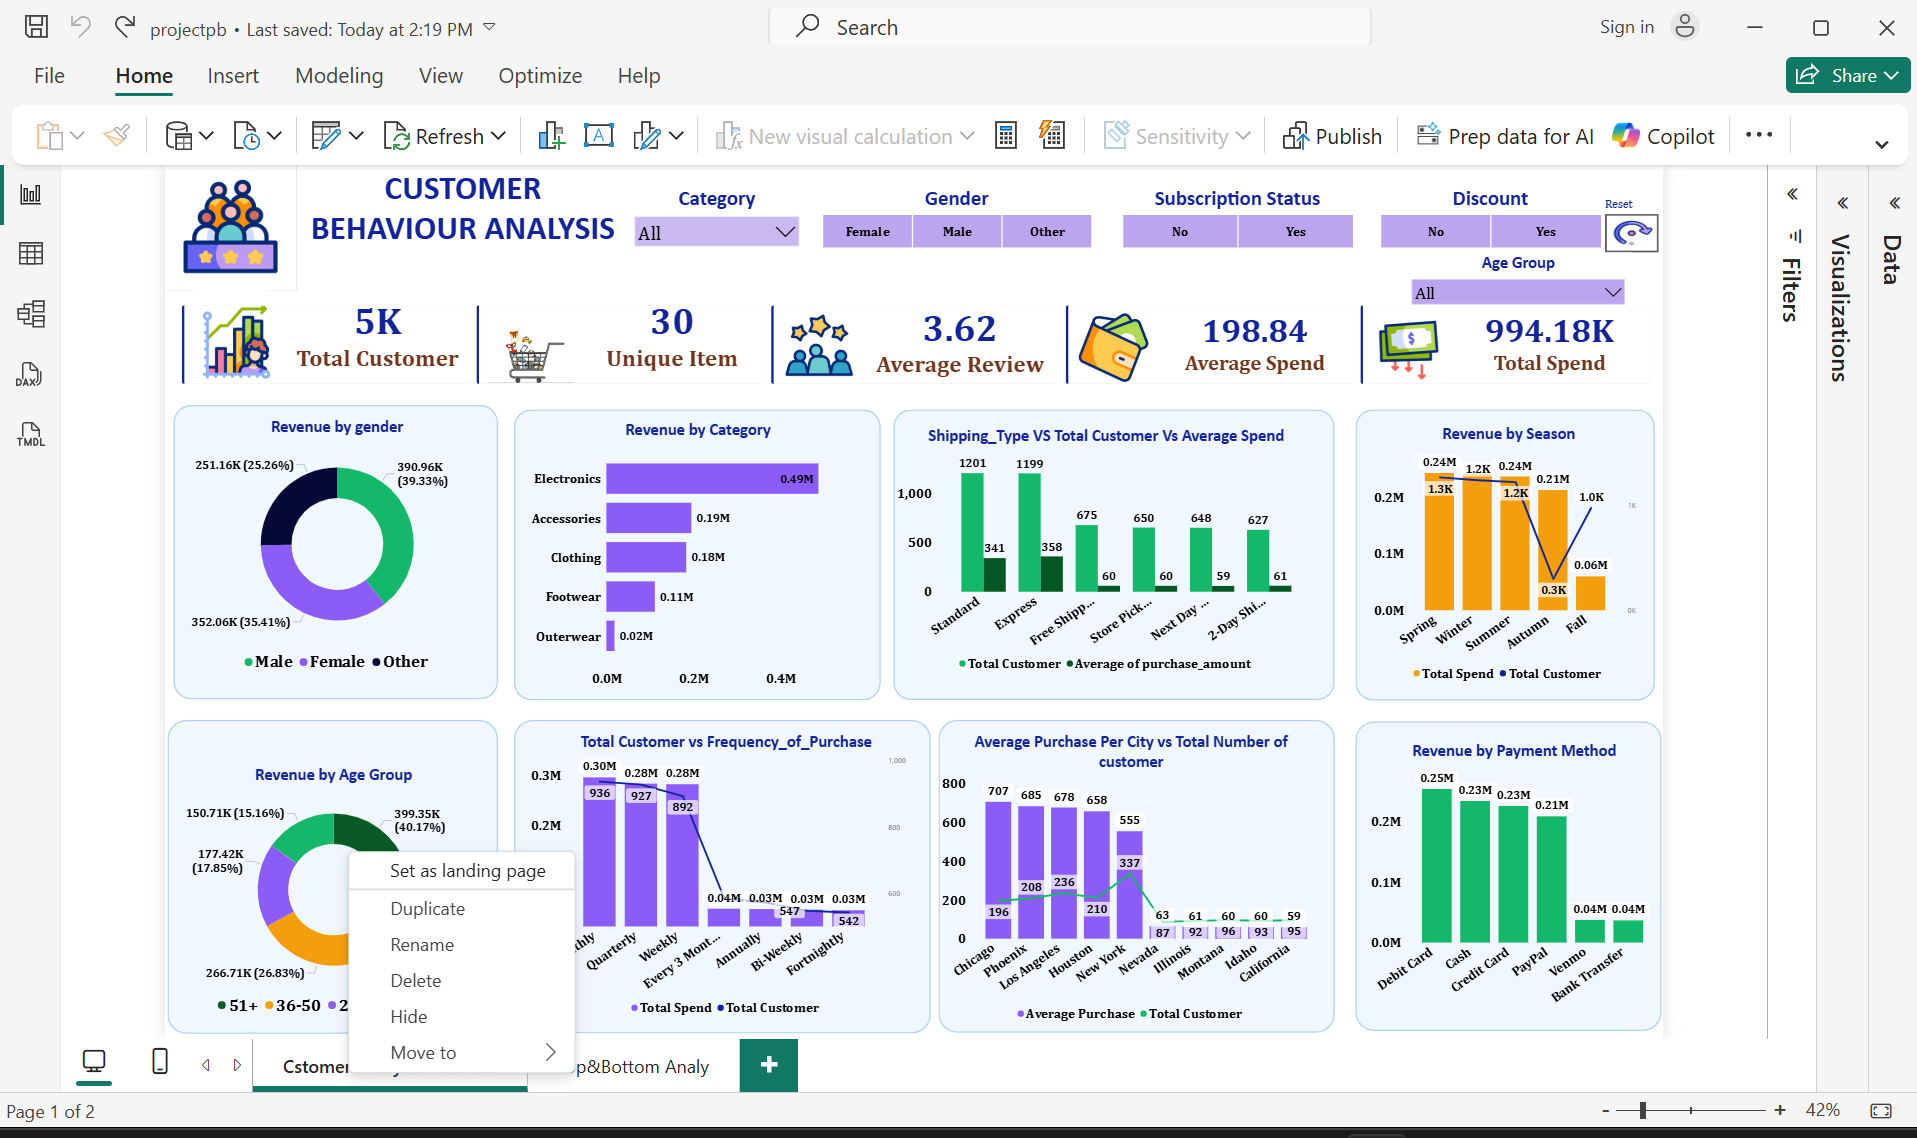

Layout of this report page (visuals, bound fields, positions):
{"tool":"powerbi","page":{"name":"Cstomer Analysis Revenue","canvas":[2400,1400],"ordinal":0},"visuals":[{"type":"cardVisual","fields":{"Data":["customer_behaviour_analysis.Total Customer","customer_behaviour_analysis.Unique Item","customer_behaviour_analysis.Average Review","customer_behaviour_analysis.Average Spend","customer_behaviour_analysis.Total Spend"]},"box":[10,210,2390,160],"z":0},{"type":"shape","box":[1162.5,388.4,714.6,473.5],"z":0,"group":"g2"},{"type":"shape","box":[10.7,383,527.7,479.5],"z":1000,"group":"g7"},{"type":"group","id":"g1","title":"Group 2","box":[554.5,388.4,594.7,474.1],"z":1000},{"type":"clusteredColumnChart","title":" Shipping_Type VS Total Customer Vs Average Spend","fields":{"Y":["CountNonNull(customer_behaviour_analysis.customer_id)","Avg(customer_behaviour_analysis.purchase_amount)"],"Category":["customer_behaviour_analysis.shipping_type"]},"box":[1167.1,417.3,680,405.1],"z":1000,"group":"g2"},{"type":"shape","box":[0,886.7,537.4,510.7],"z":1000,"group":"g4"},{"type":"group","id":"g2","title":"Group 3","box":[1162.5,388.4,715.2,474.1],"z":2000},{"type":"shape","box":[1901.8,388.4,487.5,474.1],"z":2000,"group":"g3"},{"type":"donutChart","title":"Revenue by gender","fields":{"Y":["Sum(customer_behaviour_analysis.purchase_amount)"],"Category":["customer_behaviour_analysis.gender"]},"box":[33.4,405.2,488.8,419.5],"z":2000,"group":"g7"},{"type":"shape","box":[1901.8,889.3,498.2,503.6],"z":2000,"group":"g5"},{"type":"donutChart","title":"Revenue by Age Group","fields":{"Y":["Sum(customer_behaviour_analysis.purchase_amount)"],"Category":["customer_behaviour_analysis.age (groups)"]},"box":[10.6,960.8,520.8,411.7],"z":2000,"group":"g4"},{"type":"shape","box":[554.5,388.4,595.4,473.8],"z":3000,"group":"g1"},{"type":"group","id":"g3","title":"Group 4","box":[1901.8,388.4,487.5,474.1],"z":3000},{"type":"shape","box":[1234.8,886.6,642.9,508.9],"z":3000,"group":"g6"},{"type":"shape","box":[554.4,886.7,675.6,510],"z":3000,"group":"g8"},{"type":"barChart","title":"Revenue by Category","fields":{"Category":["customer_behaviour_analysis.category"],"Y":["Sum(customer_behaviour_analysis.purchase_amount)"]},"box":[575.2,407.1,554,436.3],"z":4000,"group":"g1"},{"type":"group","id":"g4","title":"Group 1","box":[0,886.7,536.7,513.3],"z":4000},{"type":"lineClusteredColumnComboChart","title":"Total Customer vs Frequency_of_Purchase","fields":{"Category":["customer_behaviour_analysis.frequency_of_purchases"],"Y2":["Count(customer_behaviour_analysis.customer_id)"],"Y":["customer_behaviour_analysis.Total Spend"]},"box":[577.3,909,640.2,466.1],"z":4000,"group":"g8"},{"type":"lineStackedColumnComboChart","title":"Revenue by Season","fields":{"Category":["customer_behaviour_analysis.season"],"Y2":["customer_behaviour_analysis.Total Customer"],"Y":["customer_behaviour_analysis.Total Spend"]},"box":[1928.2,414,446.2,423.2],"z":4005,"group":"g3"},{"type":"lineStackedColumnComboChart","title":"Revenue by Payment Method","fields":{"Category":["customer_behaviour_analysis.payment_method"],"Y":["Sum(customer_behaviour_analysis.purchase_amount)"]},"box":[1923.6,923.2,473.7,444.2],"z":4005,"group":"g5"},{"type":"group","id":"g5","title":"Group 4","box":[1901.8,889.3,498.2,503.6],"z":5000},{"type":"group","id":"g6","title":"Group 5","box":[1234.8,886.6,642.9,508.9],"z":6000},{"type":"textbox","box":[210,0,536.7,203.3],"z":7000},{"type":"actionButton","box":[0,0,210,203.3],"z":8000},{"type":"lineClusteredColumnComboChart","title":"Average Purchase Per City vs Total Number of customer","fields":{"Category":["customer_behaviour_analysis.location"],"Y":["Avg(customer_behaviour_analysis.purchase_amount)"],"Y2":["CountNonNull(customer_behaviour_analysis.customer_id)"]},"box":[1240.5,907.7,615.5,475.7],"z":8000,"group":"g6"},{"type":"slicer","title":"Category","fields":{"Values":["customer_behaviour_analysis.category"]},"box":[743.3,33.3,283.3,150],"z":9000},{"type":"slicer","title":"Gender","fields":{"Values":["customer_behaviour_analysis.gender"]},"box":[1028.6,34.8,479.5,107.1],"z":10000},{"type":"slicer","title":"Discount","fields":{"Values":["customer_behaviour_analysis.discount_applied"]},"box":[1923.3,34.8,401.8,107.1],"z":11000},{"type":"slicer","title":"Subscription Status","fields":{"Values":["customer_behaviour_analysis.subscription_status"]},"box":[1508.1,34.8,417.9,107.1],"z":12000},{"type":"actionButton","title":"Reset","box":[2306.3,53.6,85.7,88.4],"z":13000},{"type":"group","id":"g7","title":"Group 6","box":[10.7,383,527.7,479.5],"z":14000},{"type":"group","id":"g8","title":"Group 2","box":[554.4,886.7,675.6,510],"z":15000},{"type":"slicer","title":"Age Group","fields":{"Values":["customer_behaviour_analysis.age (groups)"]},"box":[1987.5,142,361.6,85.7],"z":16000}]}

Visuals, with their boxes on the page's 2400x1400 design canvas (x1, y1, x2, y2). These are canvas units, not pixel positions in the 1917x1138 screenshot, which may show the page scaled, cropped or inside an application window:
cardVisual - customer_behaviour_analysis.Total Customer x customer_behaviour_analysis.Unique Item: Rect(10, 210, 2400, 370)
shape: Rect(1162, 388, 1877, 862)
shape: Rect(11, 383, 538, 862)
"Group 2" group: Rect(554, 388, 1149, 862)
" Shipping_Type VS Total Customer Vs Average Spend" clusteredColumnChart: Rect(1167, 417, 1847, 822)
shape: Rect(0, 887, 537, 1397)
"Group 3" group: Rect(1162, 388, 1878, 862)
shape: Rect(1902, 388, 2389, 862)
"Revenue by gender" donutChart: Rect(33, 405, 522, 825)
shape: Rect(1902, 889, 2400, 1393)
"Revenue by Age Group" donutChart: Rect(11, 961, 531, 1372)
shape: Rect(554, 388, 1150, 862)
"Group 4" group: Rect(1902, 388, 2389, 862)
shape: Rect(1235, 887, 1878, 1396)
shape: Rect(554, 887, 1230, 1397)
"Revenue by Category" barChart: Rect(575, 407, 1129, 843)
"Group 1" group: Rect(0, 887, 537, 1400)
"Total Customer vs Frequency_of_Purchase" lineClusteredColumnComboChart: Rect(577, 909, 1218, 1375)
"Revenue by Season" lineStackedColumnComboChart: Rect(1928, 414, 2374, 837)
"Revenue by Payment Method" lineStackedColumnComboChart: Rect(1924, 923, 2397, 1367)
"Group 4" group: Rect(1902, 889, 2400, 1393)
"Group 5" group: Rect(1235, 887, 1878, 1396)
textbox: Rect(210, 0, 747, 203)
actionButton: Rect(0, 0, 210, 203)
"Average Purchase Per City vs Total Number of customer" lineClusteredColumnComboChart: Rect(1240, 908, 1856, 1383)
"Category" slicer: Rect(743, 33, 1027, 183)
"Gender" slicer: Rect(1029, 35, 1508, 142)
"Discount" slicer: Rect(1923, 35, 2325, 142)
"Subscription Status" slicer: Rect(1508, 35, 1926, 142)
"Reset" actionButton: Rect(2306, 54, 2392, 142)
"Group 6" group: Rect(11, 383, 538, 862)
"Group 2" group: Rect(554, 887, 1230, 1397)
"Age Group" slicer: Rect(1988, 142, 2349, 228)
